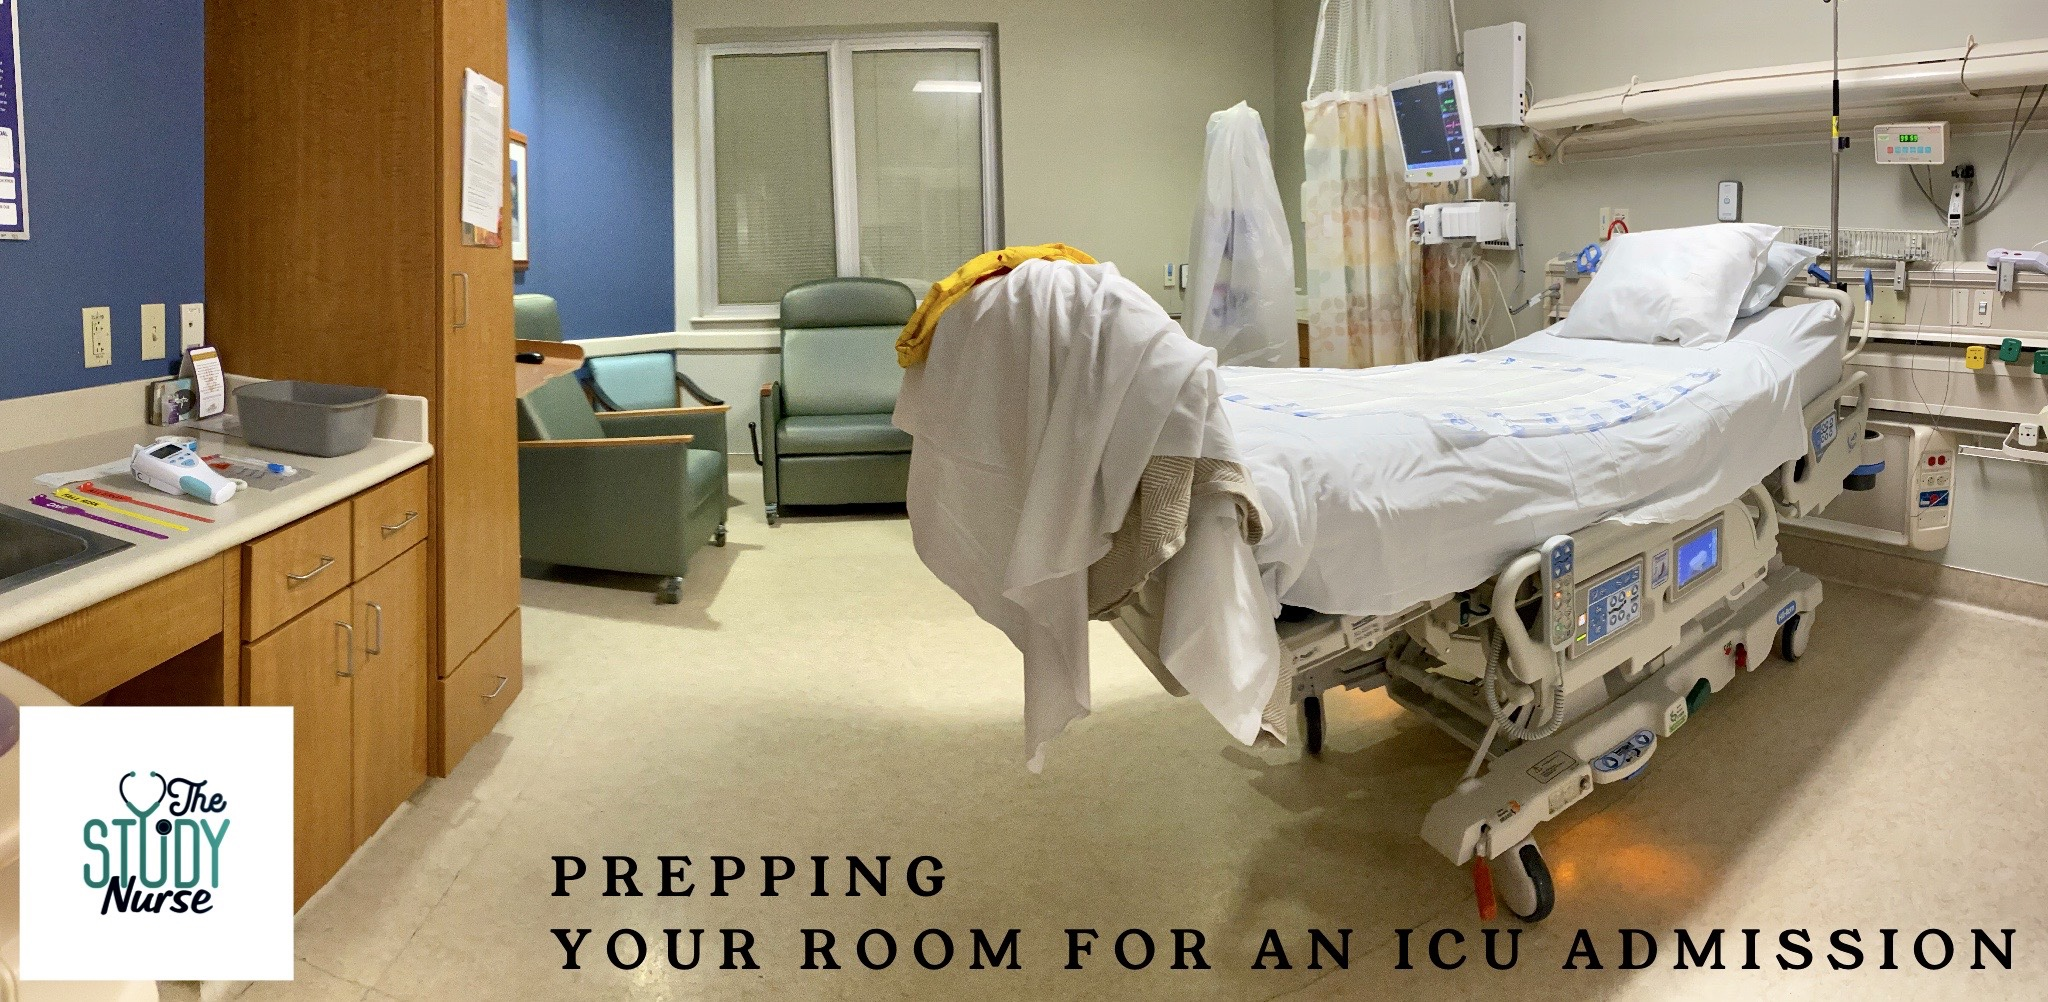bedrail: (1490, 476, 1793, 700), (1789, 368, 1891, 506)
bedside_monitor: (1384, 61, 1485, 189)
cabinet: (202, 18, 552, 738)
counter: (1, 408, 508, 860)
countertop: (1, 389, 438, 645)
curtain: (1289, 1, 1437, 346)
handle: (1819, 1, 1856, 287), (448, 269, 481, 338), (293, 546, 336, 594), (379, 506, 419, 543), (334, 617, 358, 681), (364, 600, 388, 662), (482, 668, 509, 700)
hospital_bed: (893, 174, 1872, 882)
sink: (1, 481, 141, 607)
sofa: (516, 338, 735, 601), (748, 274, 925, 526)
